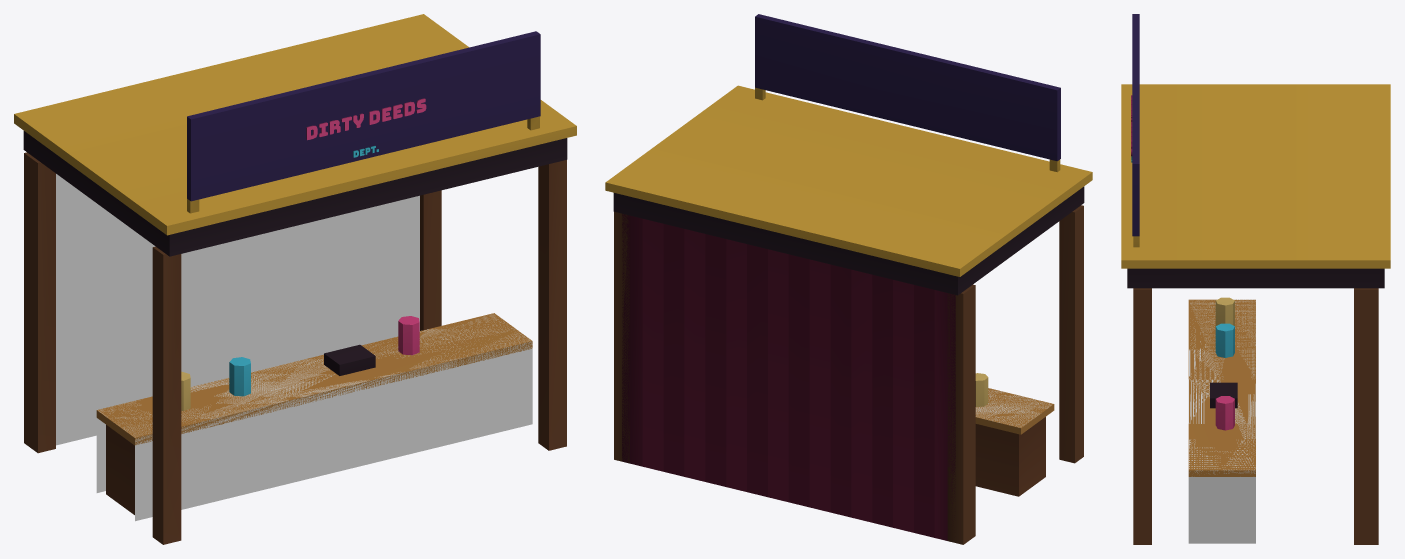
File: back_room.glb
3 views of the same model, side by side, from view 1: azimuth 30°, elevation 25°; view 2: azimuth 150°, elevation 25°; view 3: azimuth 270°, elevation 25° (orthographic). The views are drawn at different scales.
Parts seen in each view (by area): view 1: back_room, COL_1, COL_0; view 2: back_room, COL_0; view 3: back_room, COL_0.
Part boxes in pixels (box(x1,y1,x2,y2)): back_room: box(14, 14, 576, 544); COL_1: box(56, 174, 419, 445); COL_0: box(96, 314, 532, 521); back_room: box(605, 14, 1092, 544); COL_0: box(976, 388, 1051, 427); back_room: box(1121, 14, 1390, 544); COL_0: box(1188, 299, 1255, 543).
Bounding box in the file's own units: 6.8 × 6.65 × 4.4.
